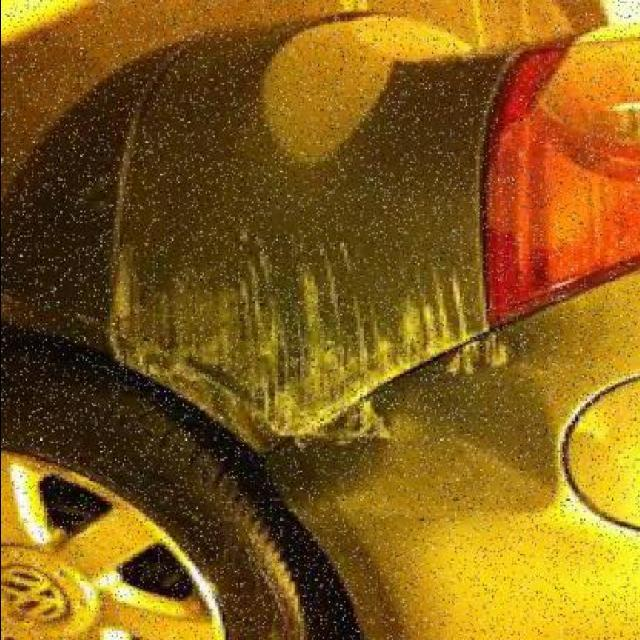rear-bumper-dent: (23, 17, 502, 468)
